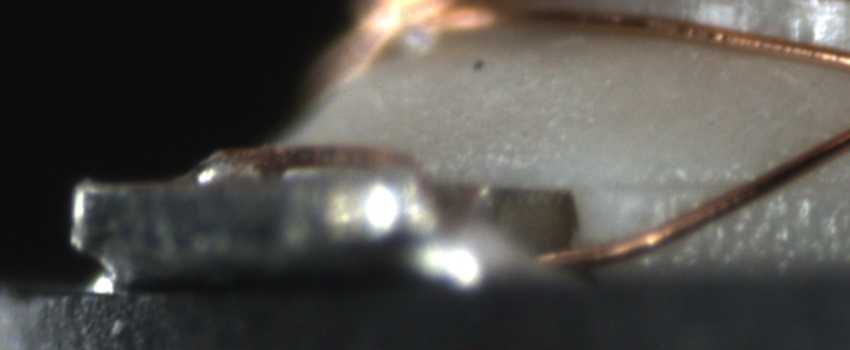DL: (629, 153, 849, 217)
TE: (203, 138, 415, 170)
